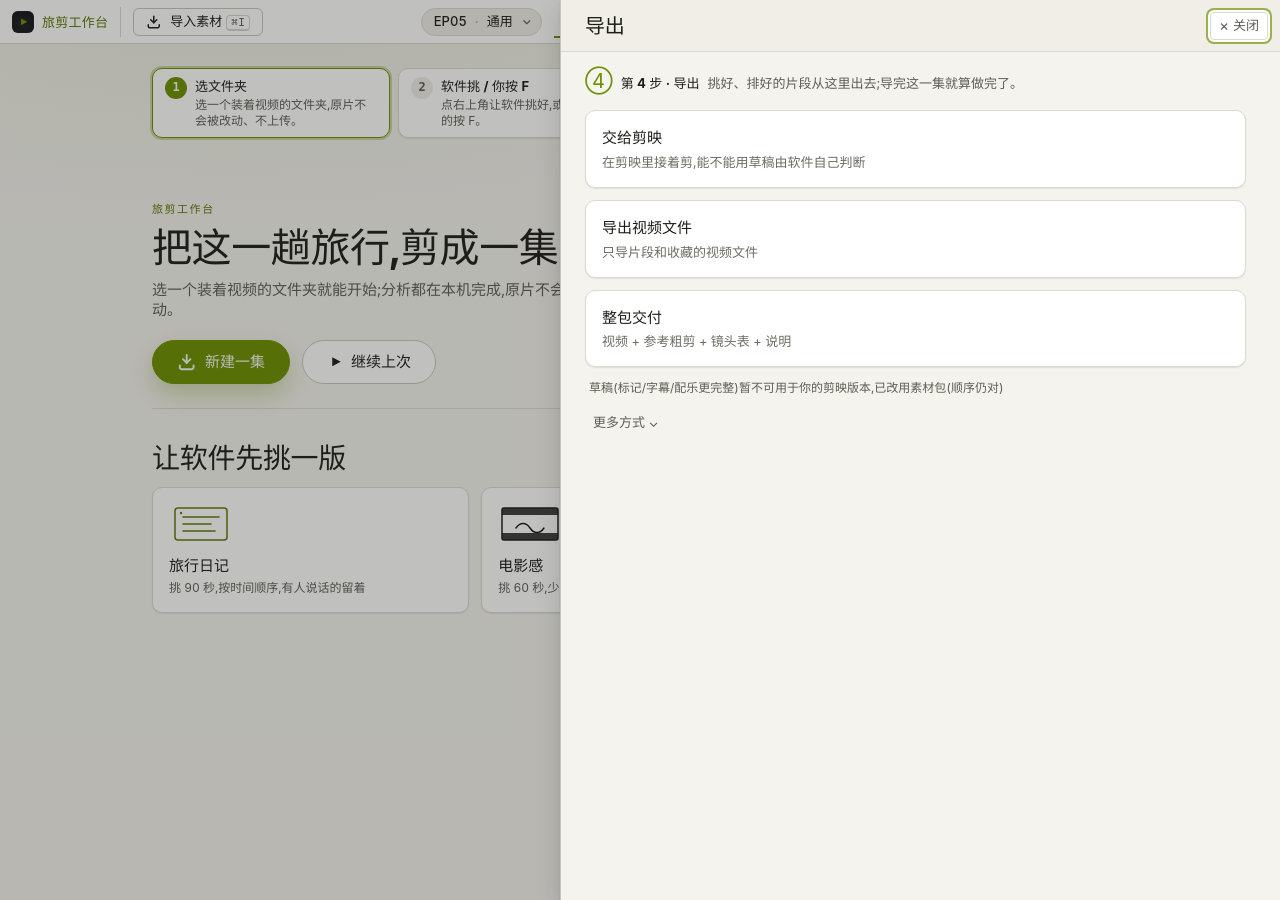
Test: 交付抽屉 · 剪映素材包(R14 §9 B) › 剪映不可用:四枚 chip 按顺序,默认落在「剪映素材包」;面板一句话 + 编号清单 + 页脚「导出到 Desktop」;主按钮 AX 名固定
Click the button "更多方式 ⌄" at (626, 422), box [585,409,667,435]
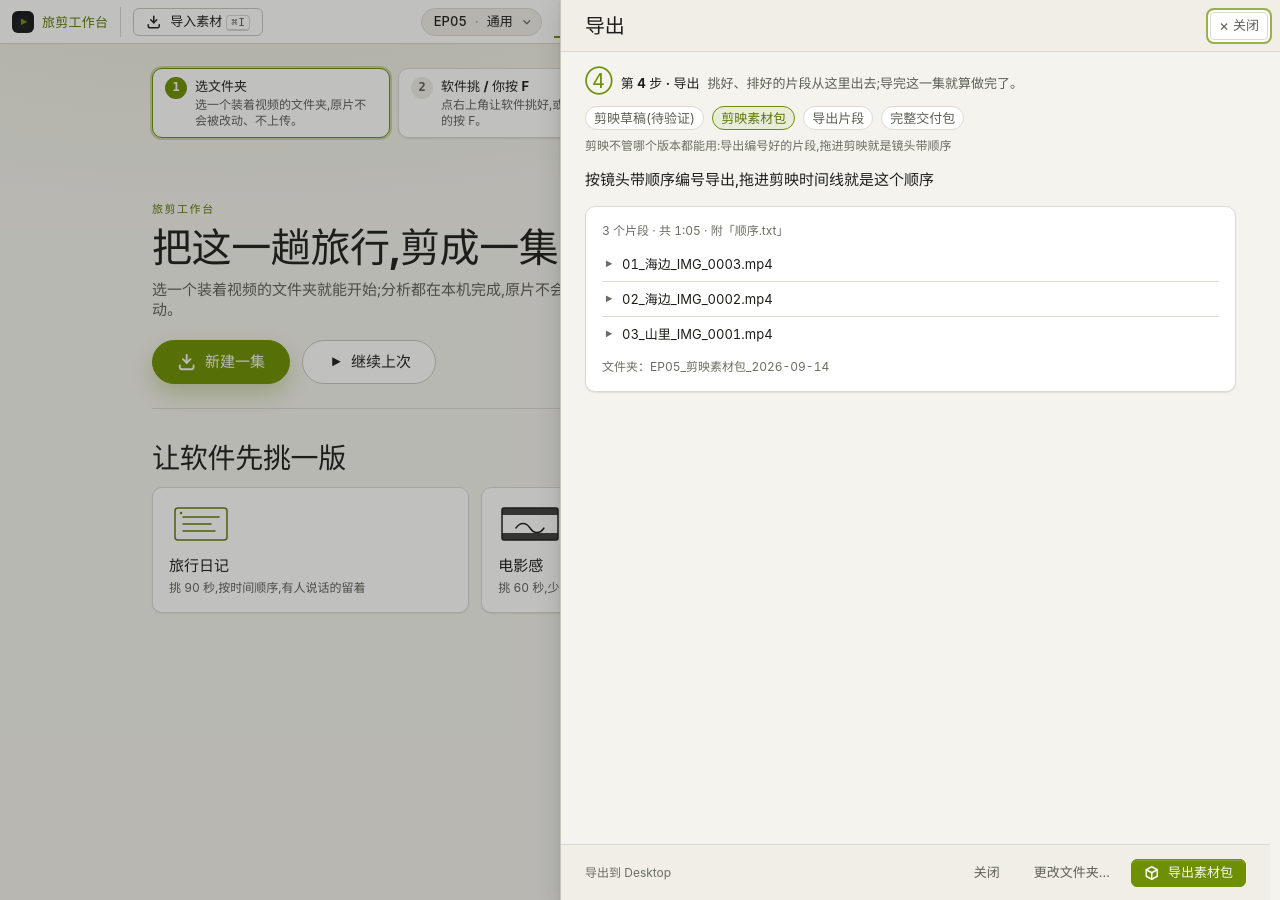
Expected: the text "按镜头带顺序编号导出,拖进剪映时间线就是这个顺序" is shown, [585,170,934,189]
Expected: the list items read "01_海边_IMG_0003.mp4", "02_海边_IMG_0002.mp4", "03_山里_IMG_0001.mp4", in this order, [602,256,773,272]; [602,281,1219,316]; [602,316,1219,351]
Expected: the text "导出到 Desktop" is shown, [585,864,671,880]
